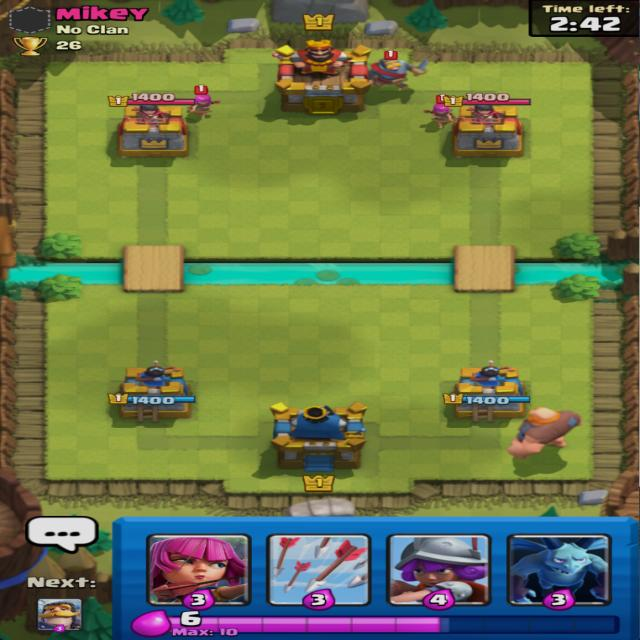6_Elixer: (179, 611, 203, 627)
Archers_Card: (145, 534, 252, 611)
Arrows_Card: (267, 534, 371, 611)
Bridge: (124, 246, 184, 292), (454, 246, 514, 291)
Elixer_Bar: (130, 609, 621, 638)
Emote: (26, 516, 100, 554)
Enemy_Archer_Troop: (421, 93, 457, 133), (186, 85, 224, 118)
Enemy_King_Tower: (254, 14, 376, 124)
Enemy_Knight_Troop: (369, 51, 431, 92)
Enemy_Princess_Tower: (442, 92, 535, 168), (104, 95, 196, 168)
Giant_Troop: (507, 406, 584, 478)
King_Tower: (254, 402, 370, 493)
Knight_Next: (27, 577, 97, 633)
Minions_Card: (507, 534, 612, 611)
Musketeer_Card: (385, 534, 491, 611)
Princess_Tower: (104, 359, 202, 429), (439, 360, 529, 428)
River: (185, 258, 456, 286), (0, 257, 122, 284), (516, 258, 638, 285)
Time_Left: (527, 0, 640, 36)
